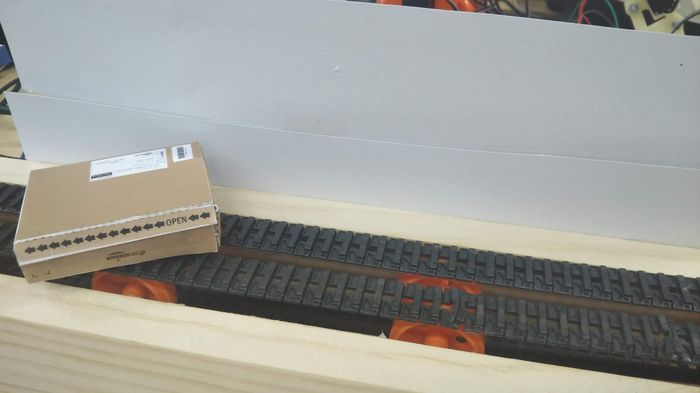box2: (12, 137, 220, 285)
